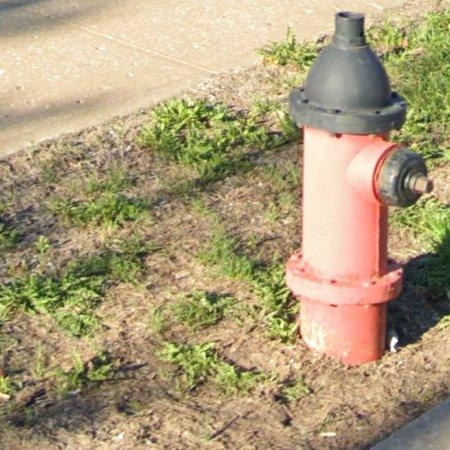a fire hydrant: (287, 11, 433, 365)
